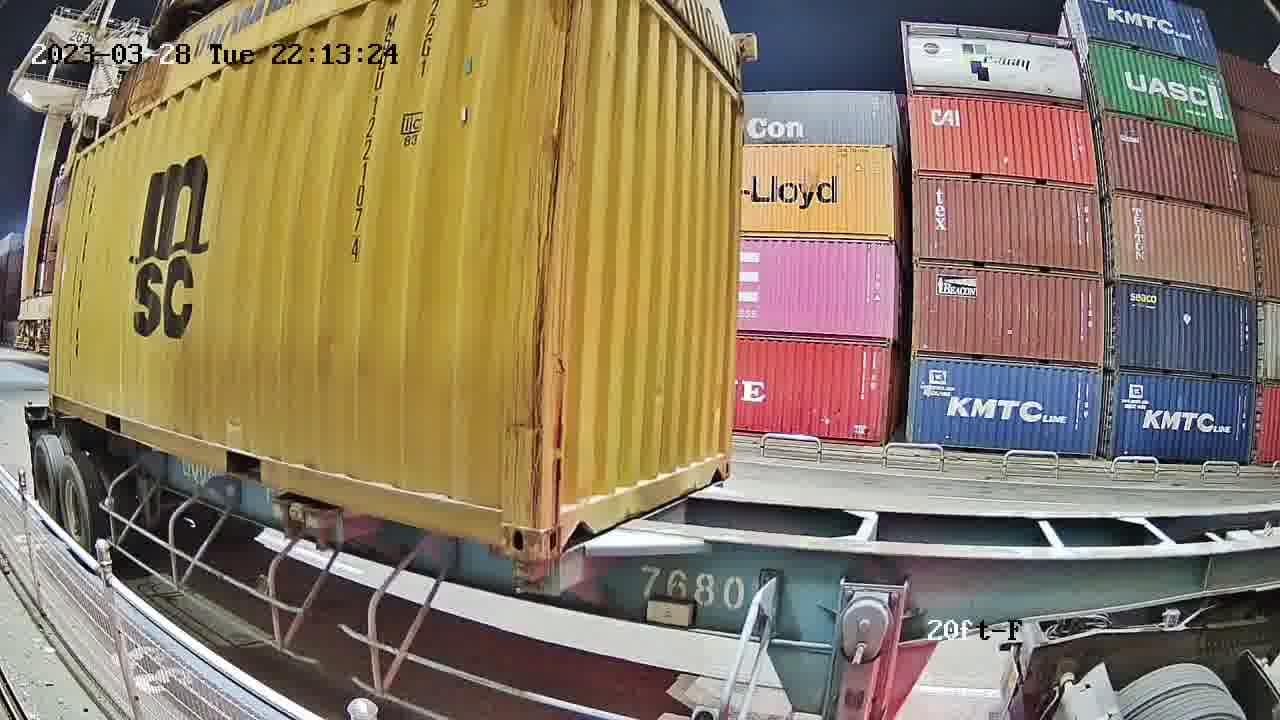Chassis: (512, 484, 723, 589)
Cone: (512, 558, 549, 592)
Hole_L: (536, 480, 586, 562)
Hole_R: (469, 479, 540, 563), (706, 439, 732, 485)
Tire: (60, 459, 94, 562), (32, 440, 57, 525)
